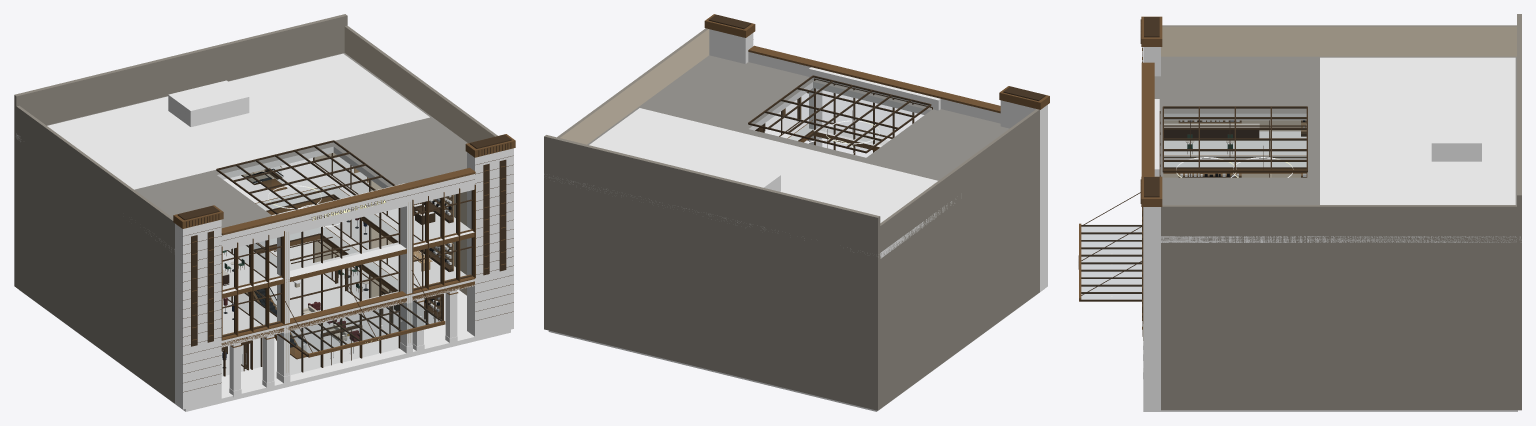
File: the_promenade_galleria_lod0.glb
The picture shows the model from 3 angles, left to right: view 1: azimuth 30°, elevation 25°; view 2: azimuth 150°, elevation 25°; view 3: azimuth 270°, elevation 25°; orthographic projection. The views are drawn at different scales.
Visible parts, largest first — view 1: B05_LOD0_BUILDING_EXTERIOR_Stone, B05_LOD0_BUILDING_EXTERIOR_Roof, B05_LOD0_BUILDING_EXTERIOR_RearInterface, B05_LOD0_BUILDING_INTERIOR_GroundSlab, B05_LOD0_BUILDING_INTERIOR_L2Slab, B05_LOD0_BUILDING_INTERIOR_L1Slab, B05_LOD0_FACADE_DETAILS_Bronze, B05_LOD0_FACADE_DETAILS_Canopy, B05_LOD0_GLASS_SYSTEM_TowerSlots, B05_LOD0_GLASS_SYSTEM_PortalFrame, B05_LOD0_GLASS_SYSTEM_Skylight, B05_LOD0_GLASS_SYSTEM_Upper-13Frame (+5 smaller); view 2: B05_LOD0_BUILDING_EXTERIOR_Stone, B05_LOD0_BUILDING_EXTERIOR_Roof, B05_LOD0_BUILDING_EXTERIOR_RearInterface, B05_LOD0_FACADE_DETAILS_Bronze, B05_LOD0_GLASS_SYSTEM_Skylight, B05_LOD0_BUILDING_INTERIOR_L2Slab, B05_LOD0_GLASS_SYSTEM_PortalFrame, B05_LOD0_BUILDING_INTERIOR_GroundSlab; view 3: B05_LOD0_BUILDING_EXTERIOR_Stone, B05_LOD0_BUILDING_EXTERIOR_Roof, B05_LOD0_FACADE_DETAILS_Canopy, B05_LOD0_BUILDING_INTERIOR_L2Slab, B05_LOD0_GLASS_SYSTEM_Skylight, B05_LOD0_FACADE_DETAILS_Bronze, B05_LOD0_FURNITURE_Shops, B05_LOD0_BUILDING_EXTERIOR_RearInterface, B05_LOD0_BUILDING_INTERIOR_GroundSlab, B05_LOD0_DISPLAY_OBJECTS_Merch, B05_LOD0_BUILDING_INTERIOR_VoidRail2Frame, B05_LOD0_BUILDING_INTERIOR_ShopFront2-10Frame.
Part boxes in pixels (x1,y1,x2,y2): B05_LOD0_BUILDING_EXTERIOR_Stone: [14, 25, 513, 409]; B05_LOD0_BUILDING_EXTERIOR_Roof: [16, 53, 513, 260]; B05_LOD0_BUILDING_EXTERIOR_RearInterface: [14, 14, 347, 286]; B05_LOD0_BUILDING_INTERIOR_GroundSlab: [19, 241, 510, 411]; B05_LOD0_BUILDING_INTERIOR_L2Slab: [222, 157, 474, 298]; B05_LOD0_BUILDING_INTERIOR_L1Slab: [221, 205, 474, 347]; B05_LOD0_FACADE_DETAILS_Bronze: [173, 134, 515, 340]; B05_LOD0_FACADE_DETAILS_Canopy: [277, 270, 445, 357]; B05_LOD0_GLASS_SYSTEM_TowerSlots: [191, 159, 506, 346]; B05_LOD0_GLASS_SYSTEM_PortalFrame: [290, 208, 400, 372]; B05_LOD0_GLASS_SYSTEM_Skylight: [216, 140, 395, 214]; B05_LOD0_GLASS_SYSTEM_Upper-13Frame: [221, 231, 284, 339]; B05_LOD0_BUILDING_EXTERIOR_Stone: [544, 28, 1047, 410]; B05_LOD0_BUILDING_EXTERIOR_Roof: [544, 55, 1047, 258]; B05_LOD0_BUILDING_EXTERIOR_RearInterface: [544, 135, 880, 409]; B05_LOD0_FACADE_DETAILS_Bronze: [704, 14, 1049, 113]; B05_LOD0_GLASS_SYSTEM_Skylight: [748, 75, 931, 153]; B05_LOD0_BUILDING_INTERIOR_L2Slab: [764, 113, 888, 150]; B05_LOD0_GLASS_SYSTEM_PortalFrame: [814, 78, 932, 154]; B05_LOD0_BUILDING_INTERIOR_GroundSlab: [548, 289, 1043, 411]; B05_LOD0_BUILDING_EXTERIOR_Stone: [1143, 25, 1521, 410]; B05_LOD0_BUILDING_EXTERIOR_Roof: [1143, 56, 1521, 242]; B05_LOD0_FACADE_DETAILS_Canopy: [1079, 192, 1141, 301]; B05_LOD0_BUILDING_INTERIOR_L2Slab: [1163, 131, 1306, 173]; B05_LOD0_GLASS_SYSTEM_Skylight: [1162, 106, 1307, 172]; B05_LOD0_FACADE_DETAILS_Bronze: [1140, 16, 1162, 321]; B05_LOD0_FURNITURE_Shops: [1164, 123, 1259, 153]; B05_LOD0_BUILDING_EXTERIOR_RearInterface: [1517, 14, 1521, 296]; B05_LOD0_BUILDING_INTERIOR_GroundSlab: [1143, 410, 1517, 411]; B05_LOD0_DISPLAY_OBJECTS_Merch: [1178, 120, 1306, 177]; B05_LOD0_BUILDING_INTERIOR_VoidRail2Frame: [1164, 155, 1307, 177]; B05_LOD0_BUILDING_INTERIOR_ShopFront2-10Frame: [1164, 120, 1269, 158].
Size of the model in its own units: 34.2 by 19.08 by 35.16.
